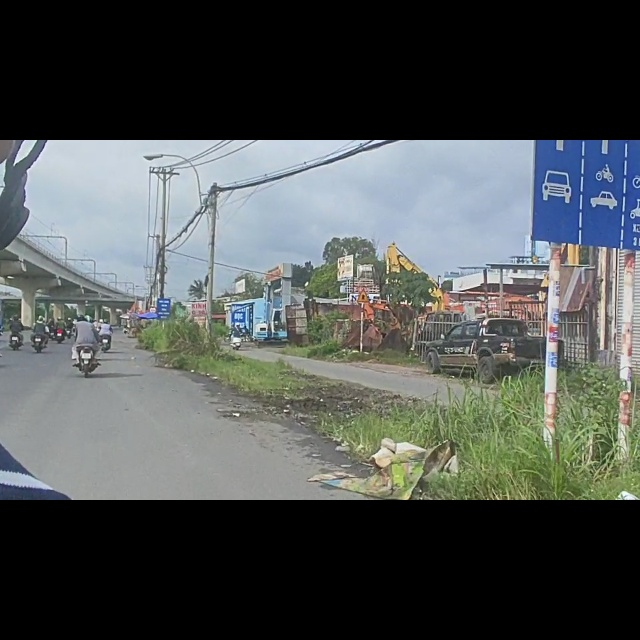bien_nguy_hiem: (528, 40, 640, 194), (356, 263, 373, 290)
